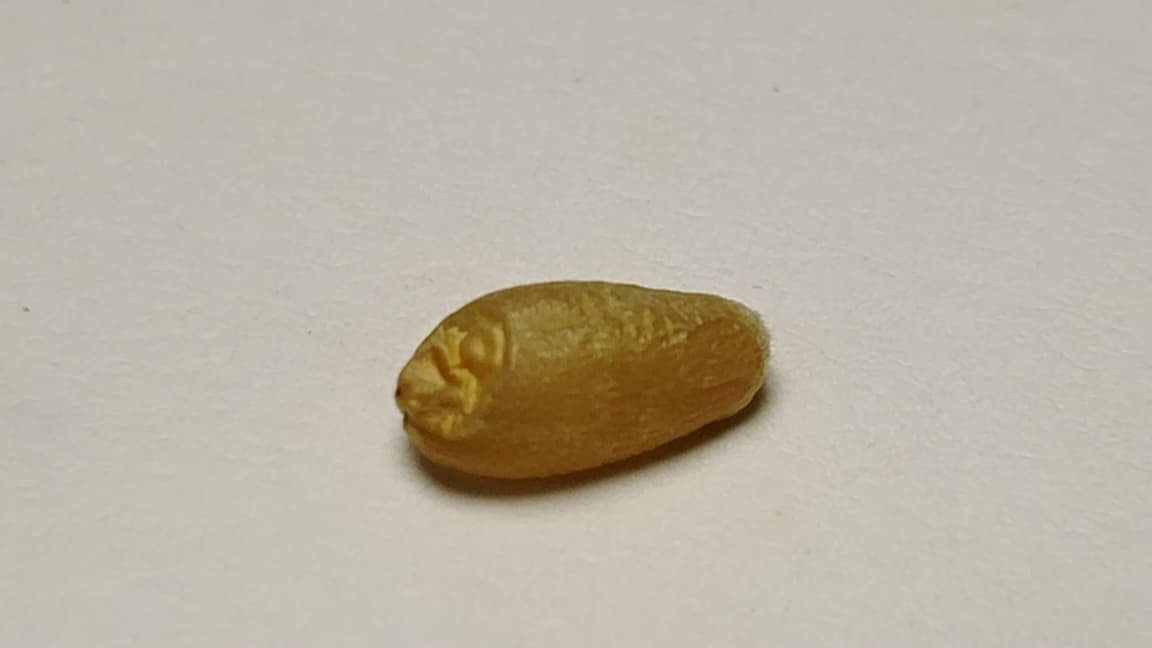healthy: (396, 282, 767, 476)
